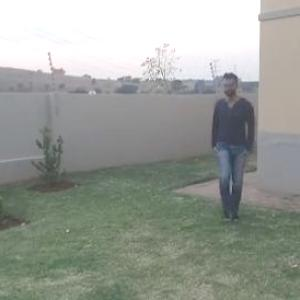follow: (210, 63, 270, 238)
